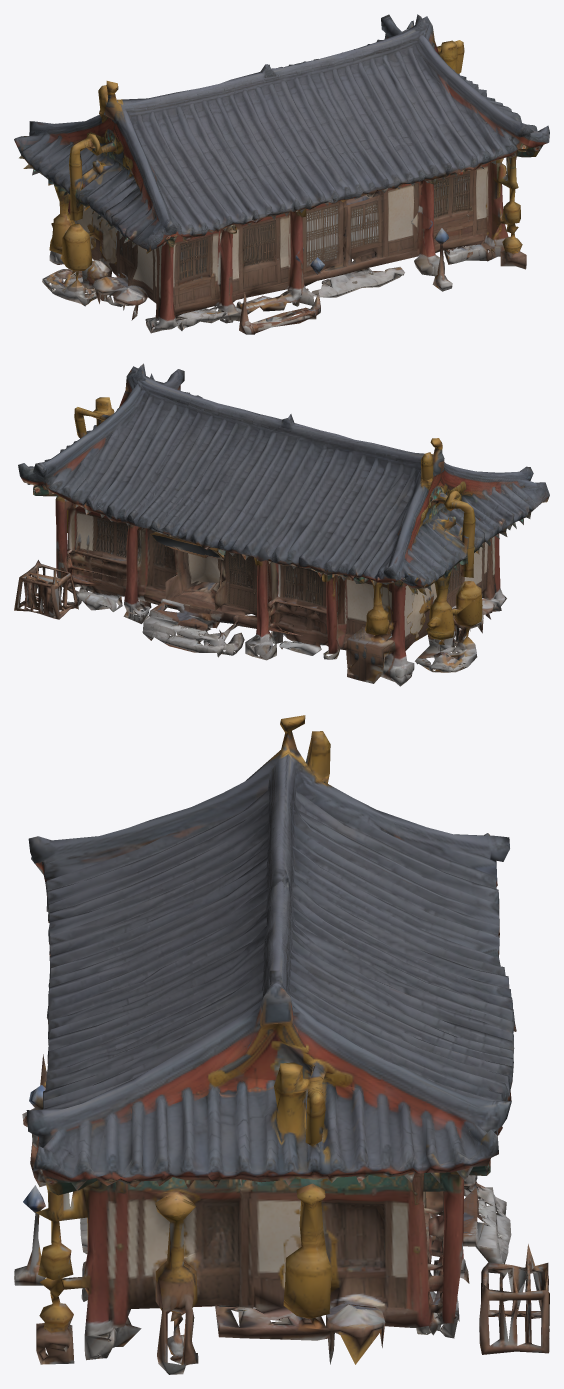
File: PR_Podocheong.fbx
The picture shows the model from 3 angles, top to bottom: view 1: azimuth 30°, elevation 25°; view 2: azimuth 150°, elevation 25°; view 3: azimuth 270°, elevation 25°; orthographic projection. The views are drawn at different scales.
Parts seen in each view (by area): view 1: texture_mapping; view 2: texture_mapping; view 3: texture_mapping.
Boxes of the visible parts, box(x1,y1,x2,y2) form: texture_mapping: box(14, 14, 549, 334); texture_mapping: box(14, 363, 549, 686); texture_mapping: box(14, 715, 549, 1374).
Size of the model in its own units: 0.9924 by 0.6563 by 0.4945.
Materials: 1 (1 with a texture image).
